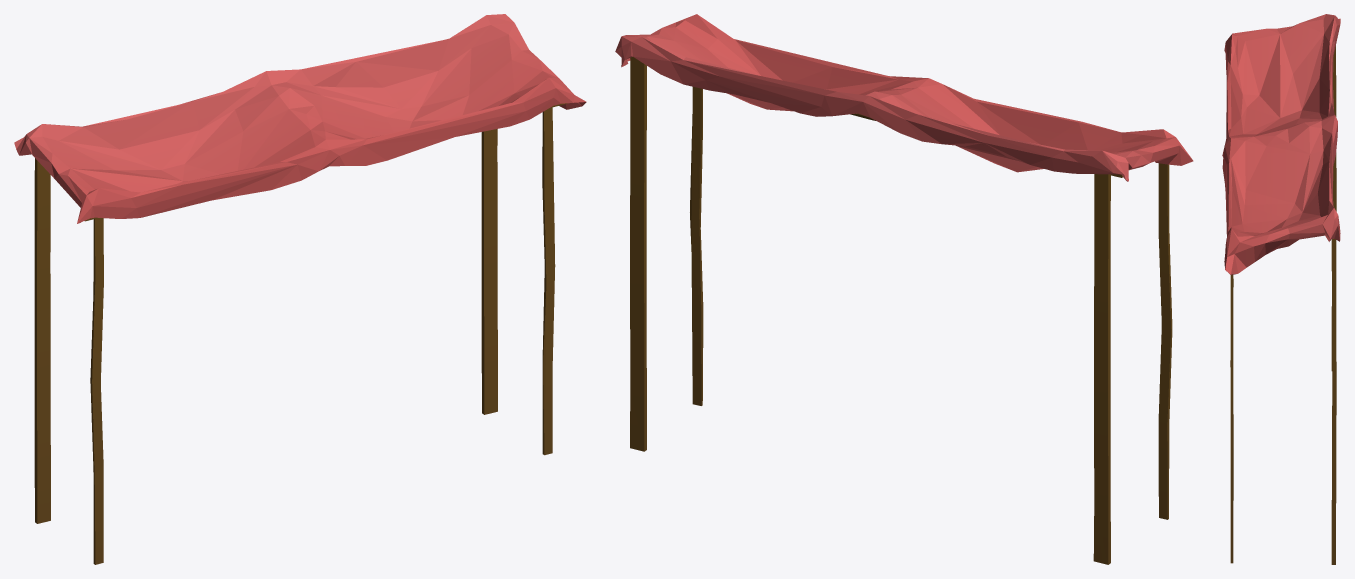
File: MarketRoofRed.fbx
3 views of the same model, side by side, from view 1: azimuth 30°, elevation 25°; view 2: azimuth 150°, elevation 25°; view 3: azimuth 270°, elevation 25° (orthographic). The views are drawn at different scales.
Visible parts, largest first — view 1: MarketRoofRed; view 2: MarketRoofRed; view 3: MarketRoofRed.
Part boxes in pixels (x1=…): MarketRoofRed: x1=14, y1=14, x2=586, y2=564; MarketRoofRed: x1=615, y1=14, x2=1193, y2=564; MarketRoofRed: x1=1222, y1=14, x2=1340, y2=564.
Bounding box in the file's own units: 272 × 203 × 61.62.
